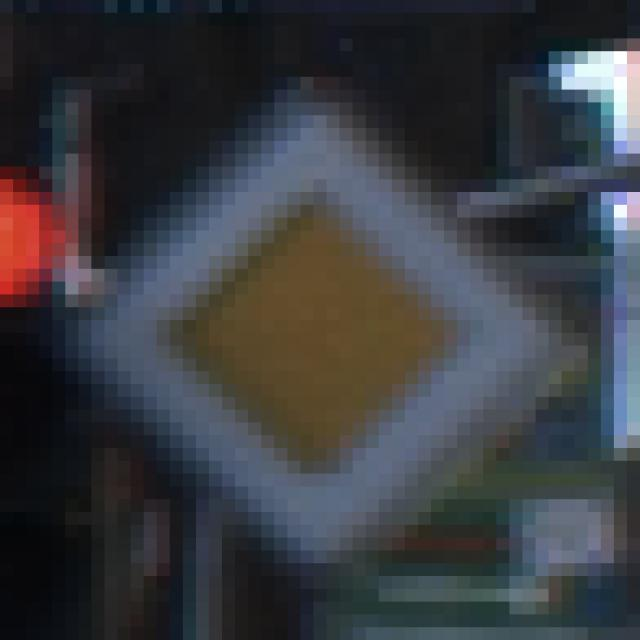Main Road: (66, 65, 576, 577)
